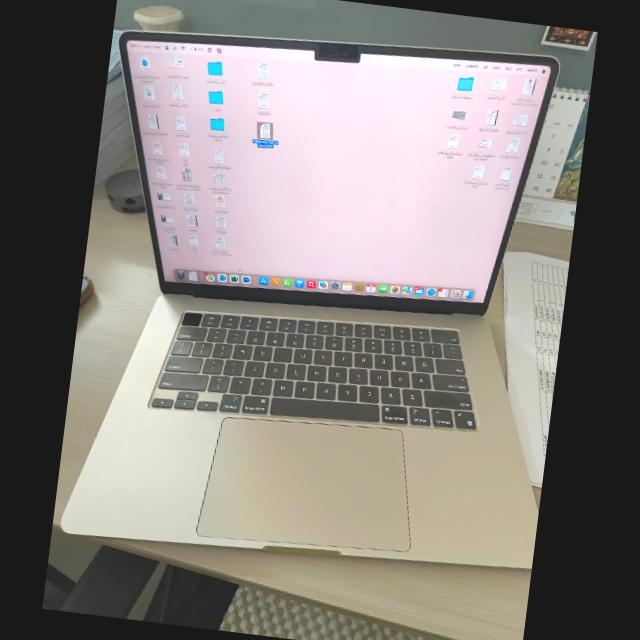laptop: (56, 0, 593, 610)
